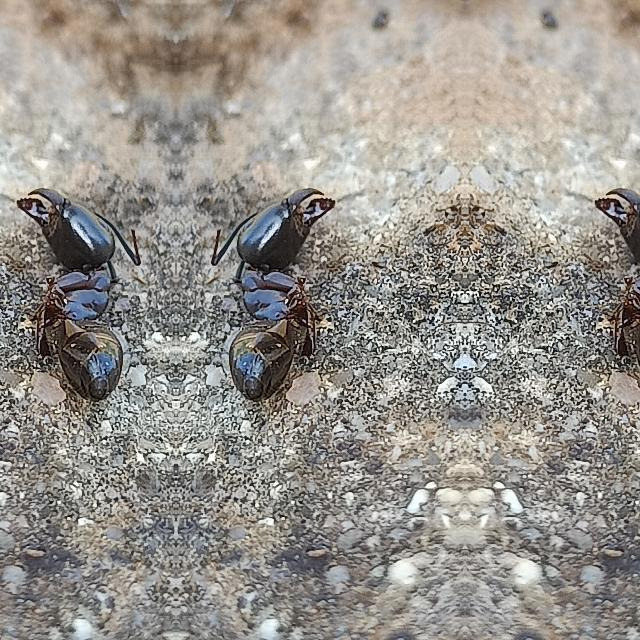Camponotus: (176, 136, 368, 410), (0, 134, 174, 410), (560, 134, 640, 410)
